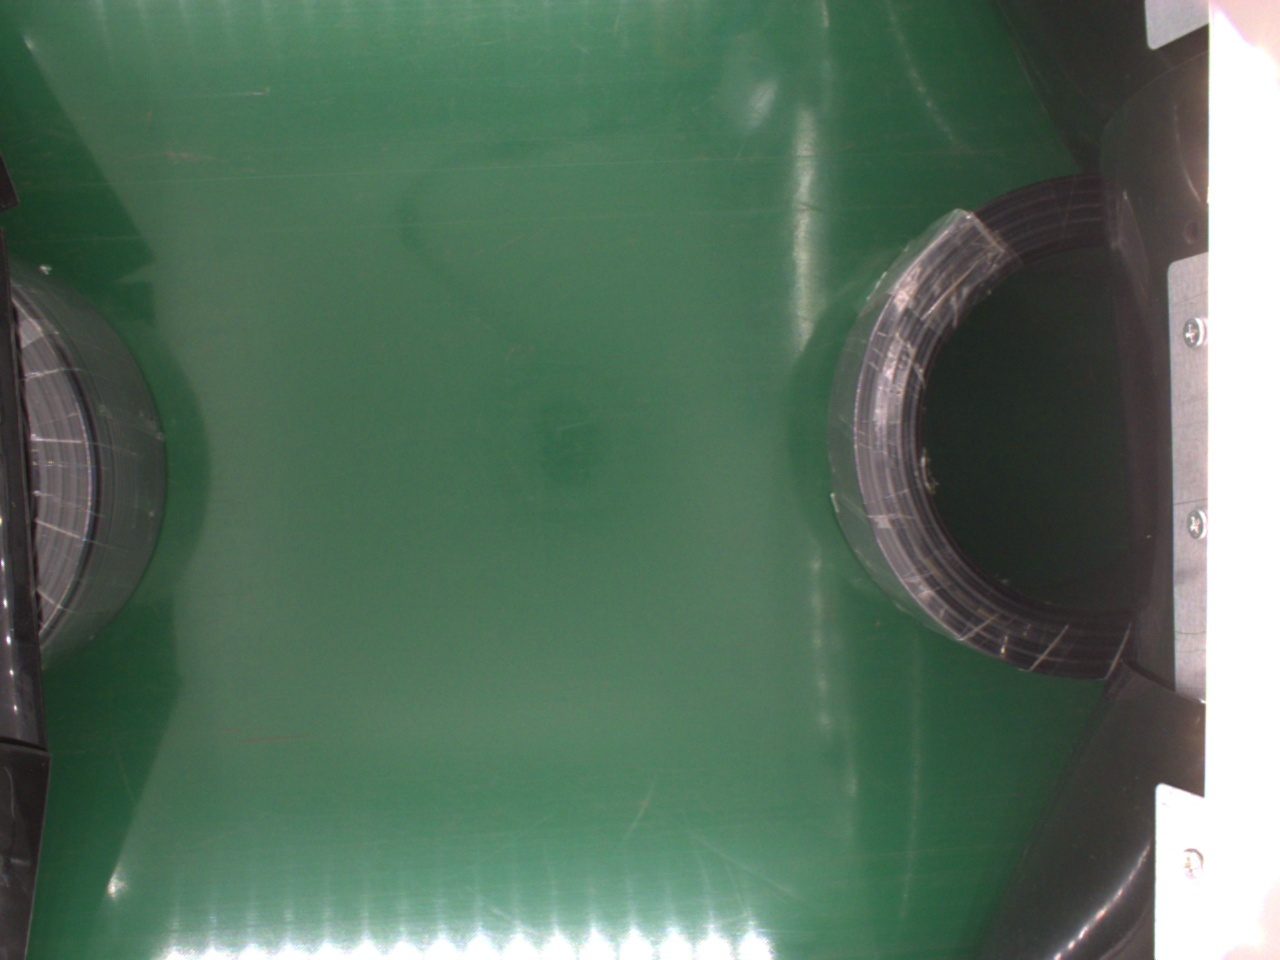black: (825, 173, 1124, 677), (9, 257, 166, 655)
